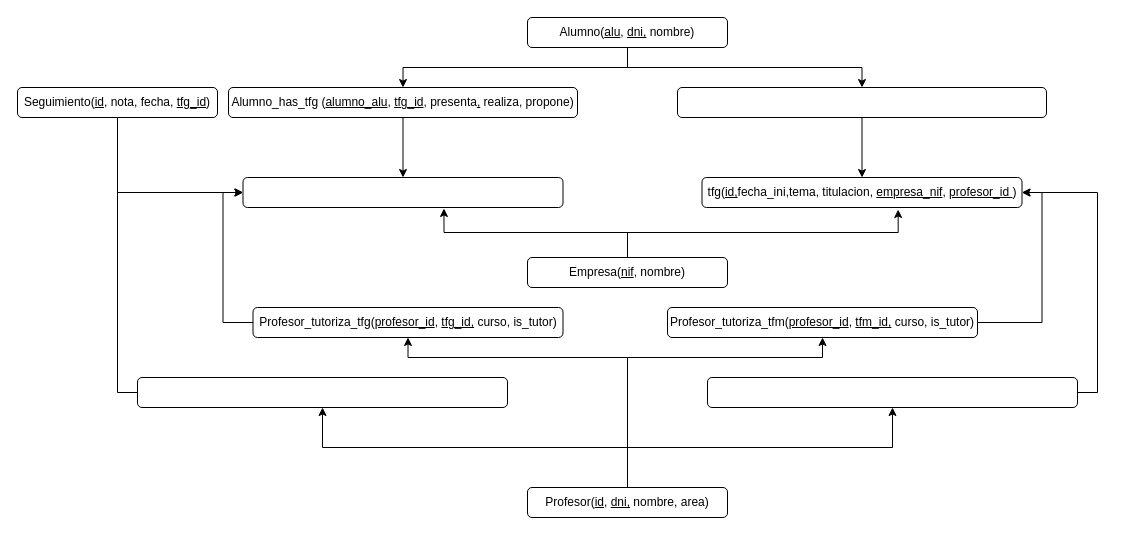
Image size: 1123x535. Some labels were removed from this diagram. The centre of each missing label's shape, as x and y in pixels:
"Alumno_has_tfm ( alumno_alu , tfm_id , presenta , realiza, propone)" goes at (861,102).
"Profesor_evalua_tfg( id_tribunal , profesor_id , tfg_id, rol, lugar, fecha)" goes at (322,392).
"Profesor_evalua_tfg( id_tribunal , profesor_id , tfm_id, rol, lugar, fecha)" goes at (892,392).
"tfm( id, fecha_ini,tema, titulacion, empresa_nif , profesor_id )" goes at (402,192).
